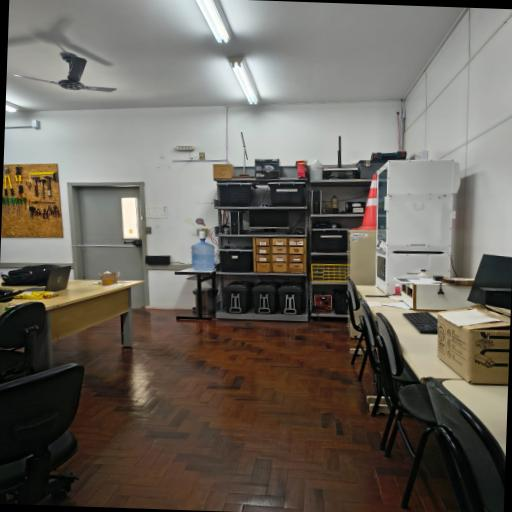cone: (351, 170, 383, 234)
